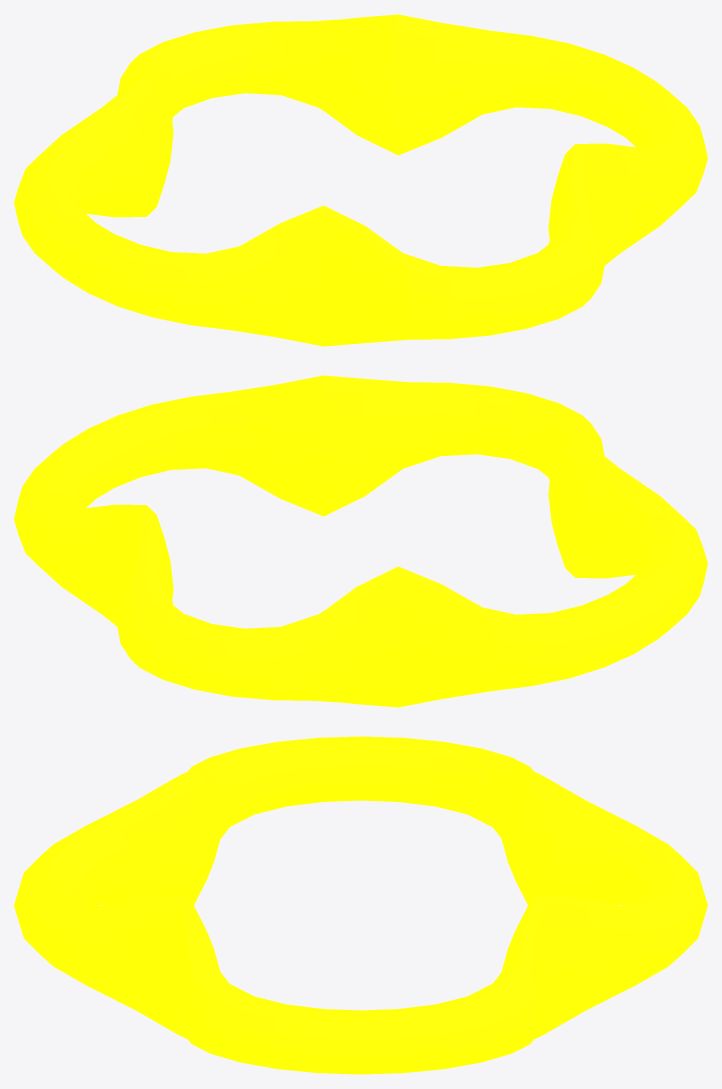
The model's file is нимб.glb.
The picture shows the model from 3 angles, top to bottom: view 1: azimuth 30°, elevation 25°; view 2: azimuth 150°, elevation 25°; view 3: azimuth 270°, elevation 25°; orthographic projection.
Parts seen in each view (by area): view 1: Torus; view 2: Torus; view 3: Torus.
Boxes of the visible parts, x1=… form: Torus: x1=14, y1=14, x2=707, y2=346; Torus: x1=14, y1=375, x2=707, y2=707; Torus: x1=14, y1=736, x2=707, y2=1074.
Size of the model in its own units: 1.47 by 0.3193 by 1.43.
